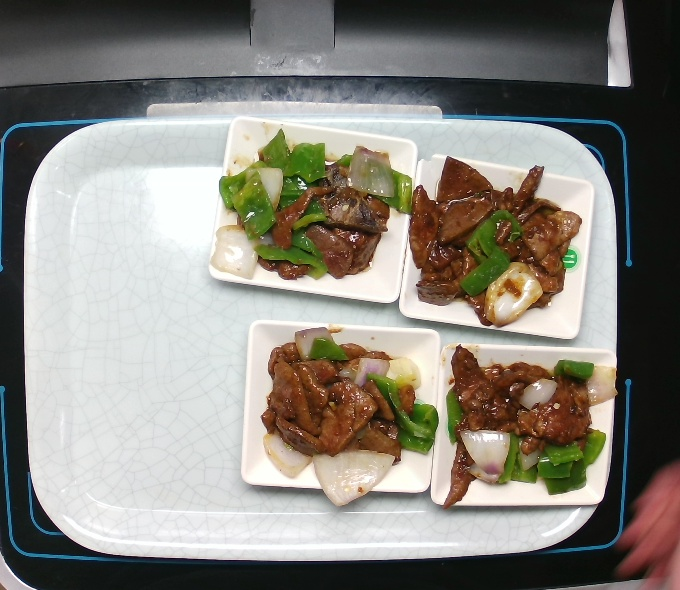wcq-ZhuGan: (255, 322, 443, 511), (400, 148, 586, 334), (204, 124, 419, 284), (438, 340, 621, 513)
